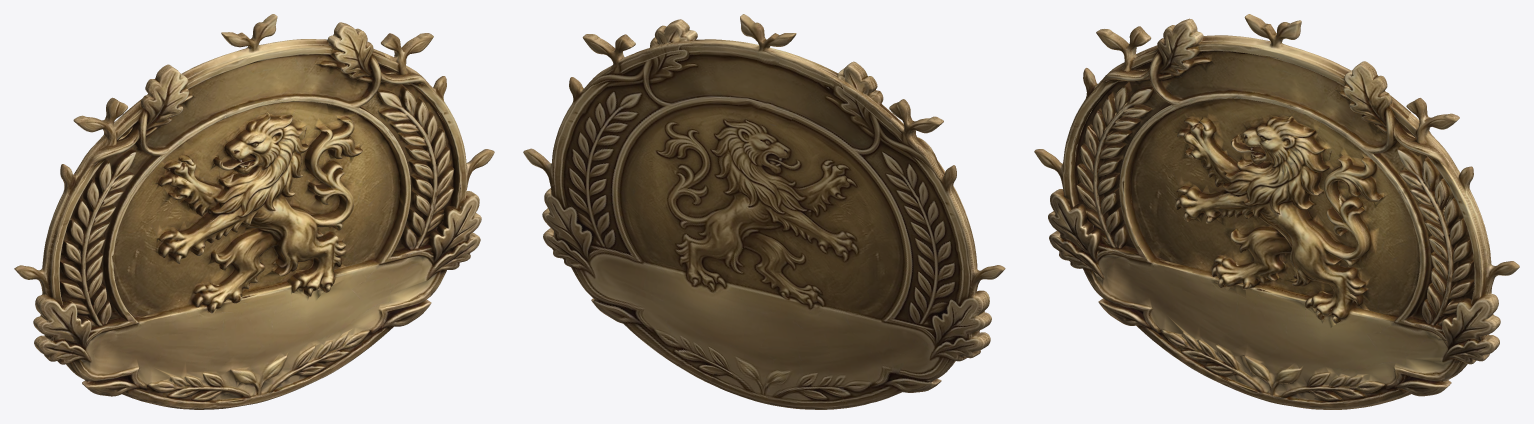
File: rank-oro.glb
The picture shows the model from 3 angles, left to right: view 1: azimuth 30°, elevation 25°; view 2: azimuth 150°, elevation 25°; view 3: azimuth 330°, elevation 25°; orthographic projection.
Bounding box in the file's own units: 1.9 × 1.45 × 0.1045.
Materials: 1 (1 with a texture image).
